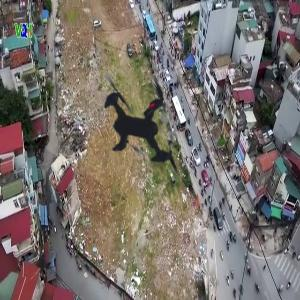drone: (58, 40, 230, 212)
